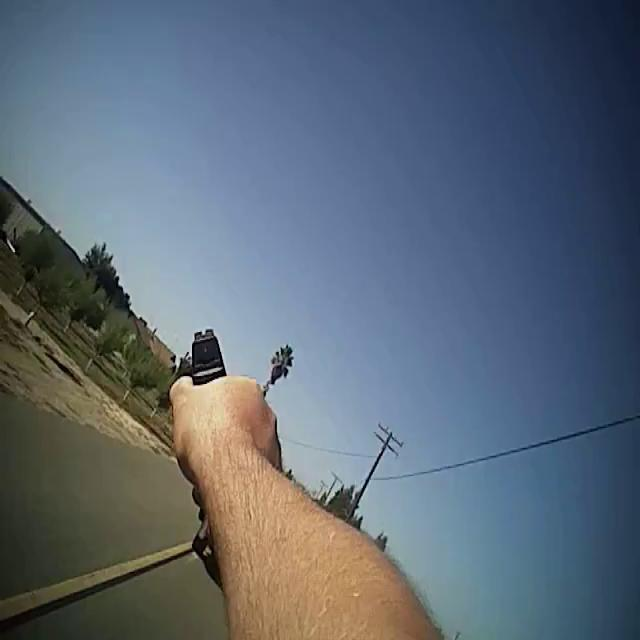gun: (146, 282, 254, 601)
